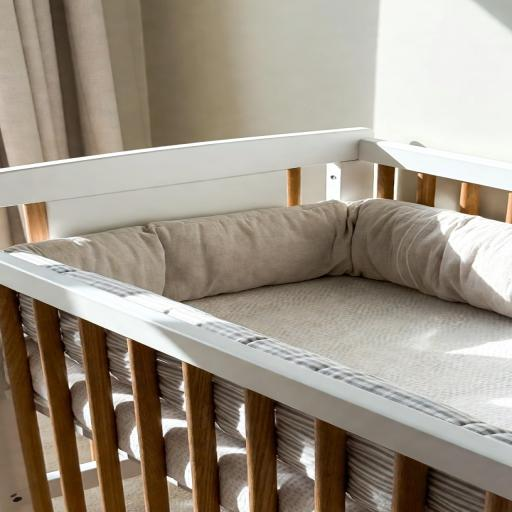crib: (0, 125, 512, 512)
